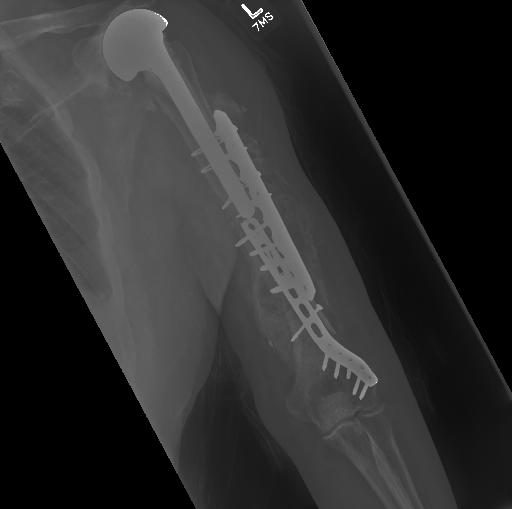implant: (207, 110, 377, 400), (99, 8, 256, 223)
